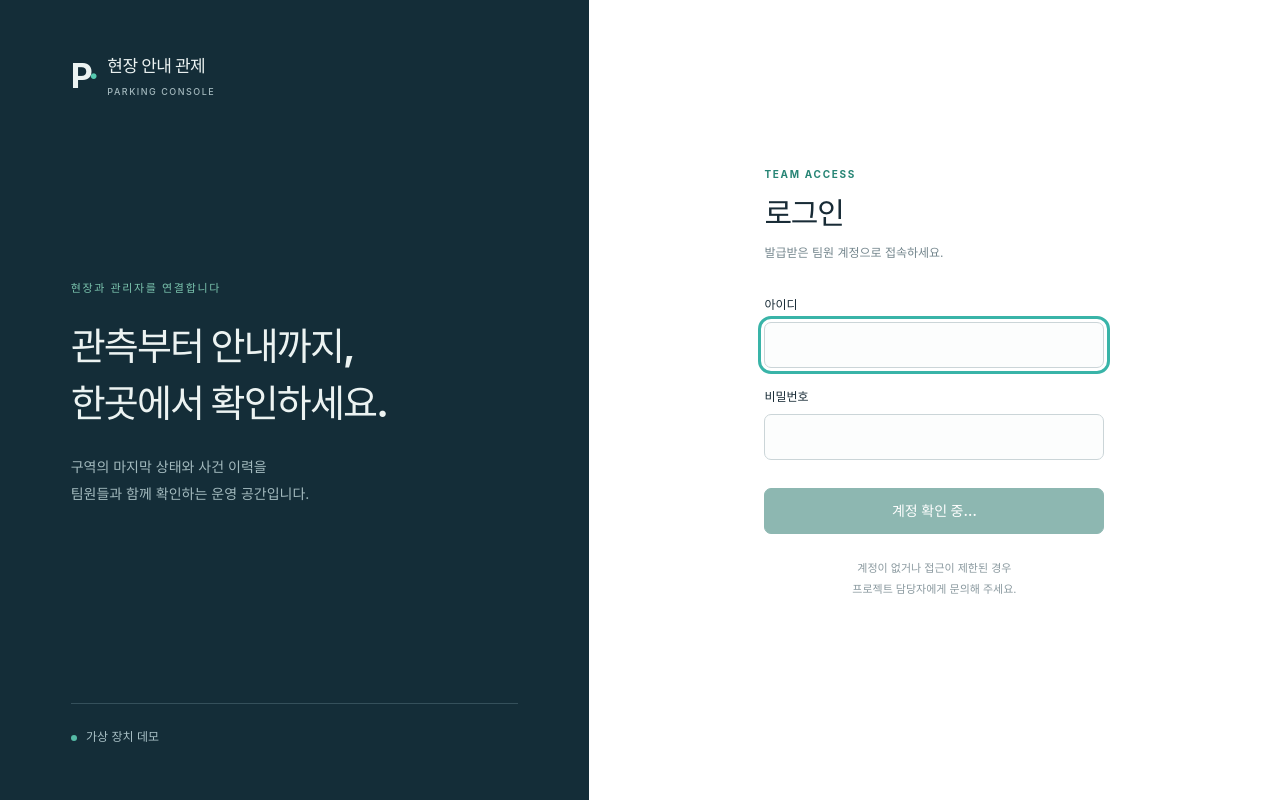
it: prevents login racing the initial session check and offers labeled keyboard inputs
This screenshot has width=1280, height=800.
Later steps or results of the test are not shown.
Step 1. Type "viewer" into the field labelled "아이디" → [934, 345], box [764,322,1104,368]
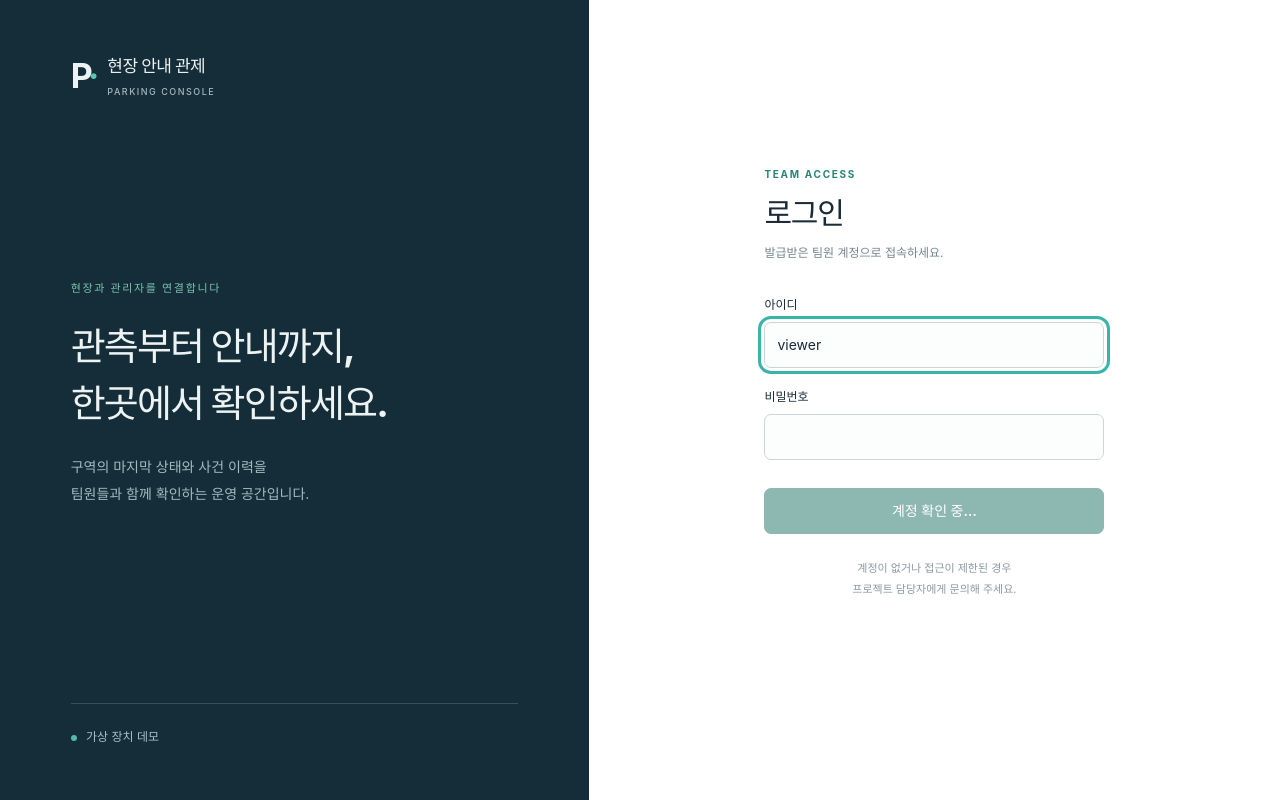
Step 2. Type "secret" into the password field labelled "비밀번호" → [934, 437], box [764,414,1104,460]
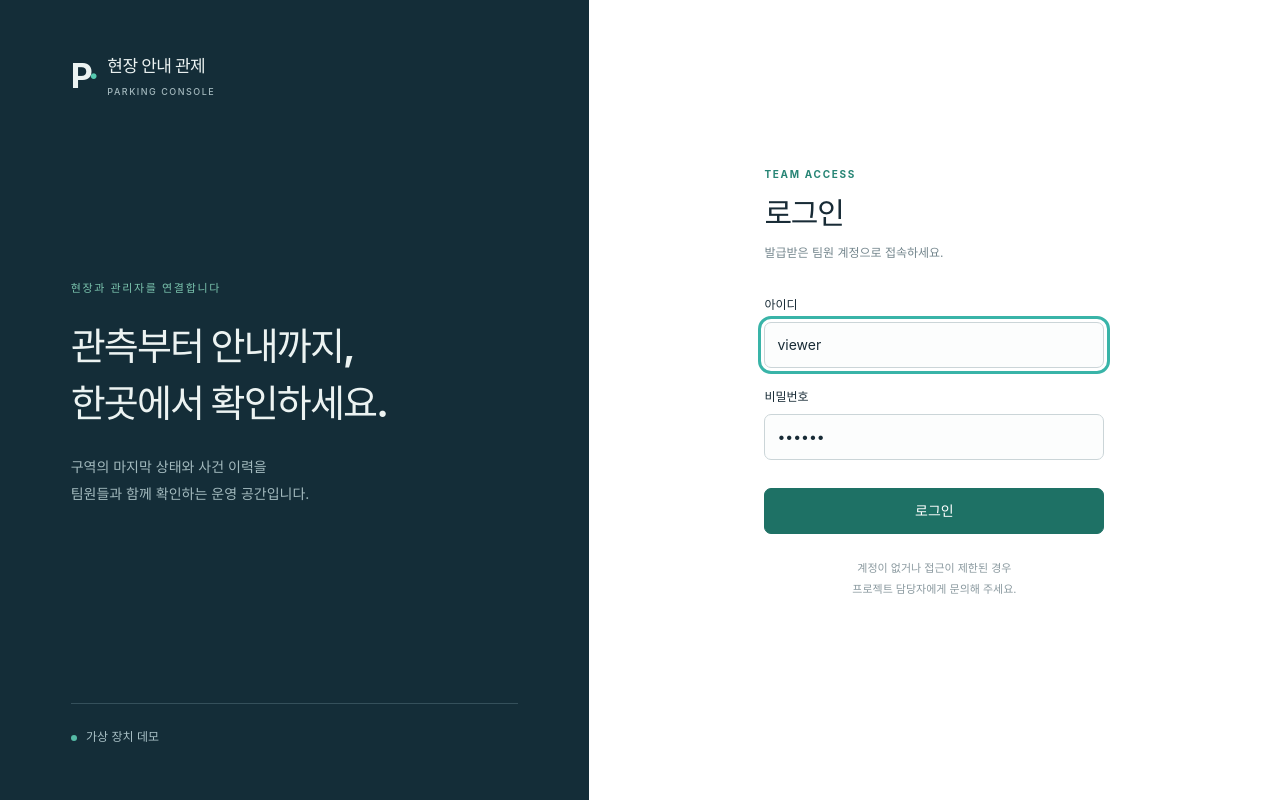
Check: the button "로그인" is enabled, box [764,488,1104,534]
